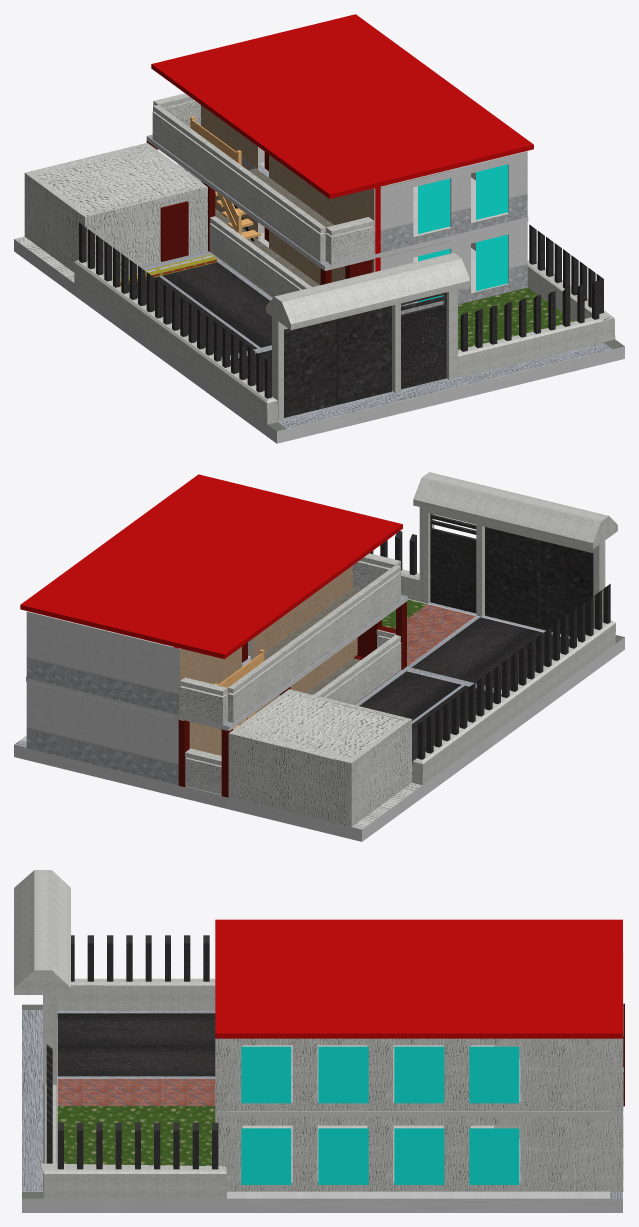
File: Construccion.obj
3 renders of one model, top to bottom at view 1: azimuth 30°, elevation 25°; view 2: azimuth 150°, elevation 25°; view 3: azimuth 270°, elevation 25°, orthographic. The views are drawn at different scales.
Visible parts, largest first — view 1: Material_Plane.004_Plane.000, Plane.004_Plane.003_Plane.004_Plane.009, Plane.001, Plane.004_Plane.001, Plane.004_Plane.008_Plane.004_Plane.012, Plane.004_Plane.007, Plane.004_Plane.005_Plane.004_Plane.010, Material.004_Plane.004_Plane.005, Material.006_Plane.004_Plane.016, Plane.004_Plane.000_Plane.004_Plane.013, Material.005_Plane.004_Plane.008, Plane.004_Plane.010_Plane.004_Plane.015 (+2 smaller); view 2: Material_Plane.004_Plane.000, Plane.004_Plane.003_Plane.004_Plane.009, Plane.001, Plane.004_Plane.001, Plane.004_Plane.007, Plane.004_Plane.008_Plane.004_Plane.012, Material.006_Plane.004_Plane.016, Material.004_Plane.004_Plane.005, Plane.004_Plane.000_Plane.004_Plane.013, Material.005_Plane.004_Plane.008, Material.001_Plane.004_Plane.003, Plane; view 3: Plane.004_Plane.003_Plane.004_Plane.009, Material_Plane.004_Plane.000, Plane.001, Plane.004_Plane.012_Plane.004_Plane.022, Plane.004_Plane.007, Plane.004_Plane.001, Material.002_Plane.004_Plane.002.
Part boxes in pixels (<box>): Material_Plane.004_Plane.000: <box>14,134,624,443</box>; Plane.004_Plane.003_Plane.004_Plane.009: <box>151,14,533,198</box>; Plane.001: <box>74,222,615,424</box>; Plane.004_Plane.001: <box>201,105,527,254</box>; Plane.004_Plane.008_Plane.004_Plane.012: <box>152,100,374,297</box>; Plane.004_Plane.007: <box>201,162,527,314</box>; Plane.004_Plane.005_Plane.004_Plane.010: <box>418,164,508,302</box>; Material.004_Plane.004_Plane.005: <box>284,292,446,417</box>; Material.006_Plane.004_Plane.016: <box>337,305,391,404</box>; Plane.004_Plane.000_Plane.004_Plane.013: <box>153,93,375,289</box>; Material.005_Plane.004_Plane.008: <box>401,304,446,389</box>; Plane.004_Plane.010_Plane.004_Plane.015: <box>160,201,188,261</box>; Material_Plane.004_Plane.000: <box>14,588,624,841</box>; Plane.004_Plane.003_Plane.004_Plane.009: <box>20,474,402,658</box>; Plane.001: <box>370,472,617,785</box>; Plane.004_Plane.001: <box>26,566,352,715</box>; Plane.004_Plane.007: <box>26,637,357,784</box>; Plane.004_Plane.008_Plane.004_Plane.012: <box>179,561,401,794</box>; Material.006_Plane.004_Plane.016: <box>485,527,539,628</box>; Material.004_Plane.004_Plane.005: <box>430,513,593,638</box>; Plane.004_Plane.000_Plane.004_Plane.013: <box>180,553,400,765</box>; Material.005_Plane.004_Plane.008: <box>430,528,476,613</box>; Material.001_Plane.004_Plane.003: <box>178,601,406,797</box>; Plane: <box>214,649,264,723</box>; Plane.004_Plane.003_Plane.004_Plane.009: <box>215,919,622,1038</box>; Material_Plane.004_Plane.000: <box>22,1004,622,1212</box>; Plane.001: <box>14,870,226,1198</box>; Plane.004_Plane.012_Plane.004_Plane.022: <box>241,1046,519,1184</box>; Plane.004_Plane.007: <box>215,1112,623,1191</box>; Plane.004_Plane.001: <box>215,950,623,1111</box>; Material.002_Plane.004_Plane.002: <box>57,1010,215,1013</box>.
Size of the model in its own units: 11.01 by 4.64 by 14.62.
